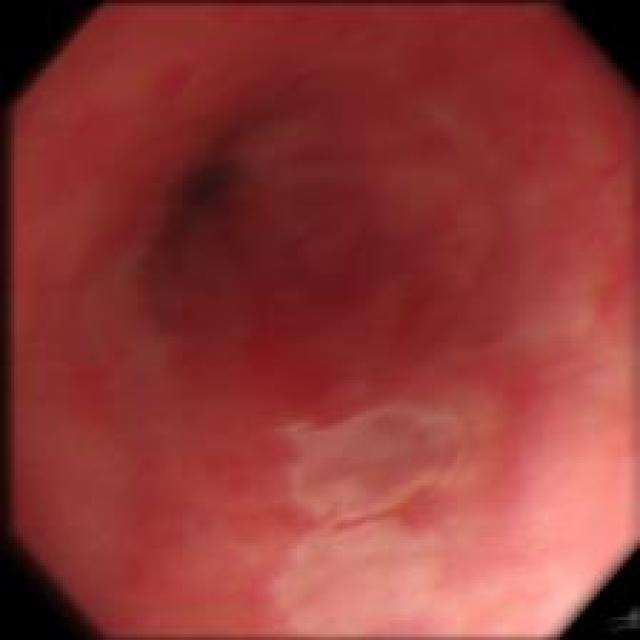blur: (5, 1, 638, 636)
contrast: (151, 108, 285, 280)
